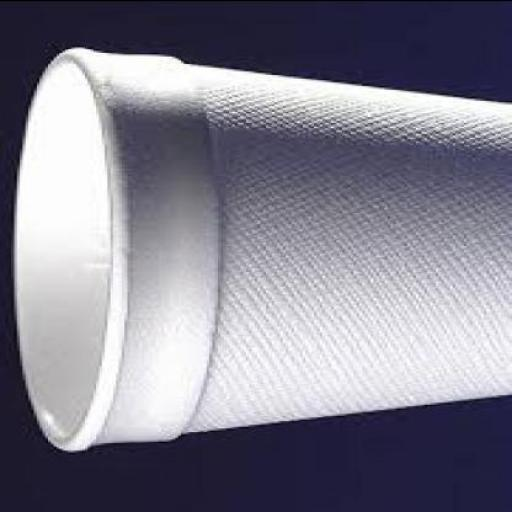paper: (12, 48, 509, 454)
